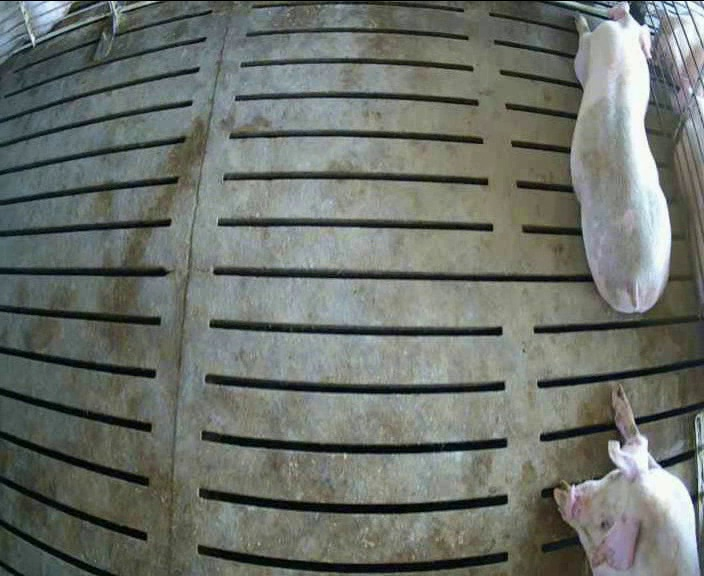pig: (570, 2, 670, 312), (554, 384, 697, 574)
